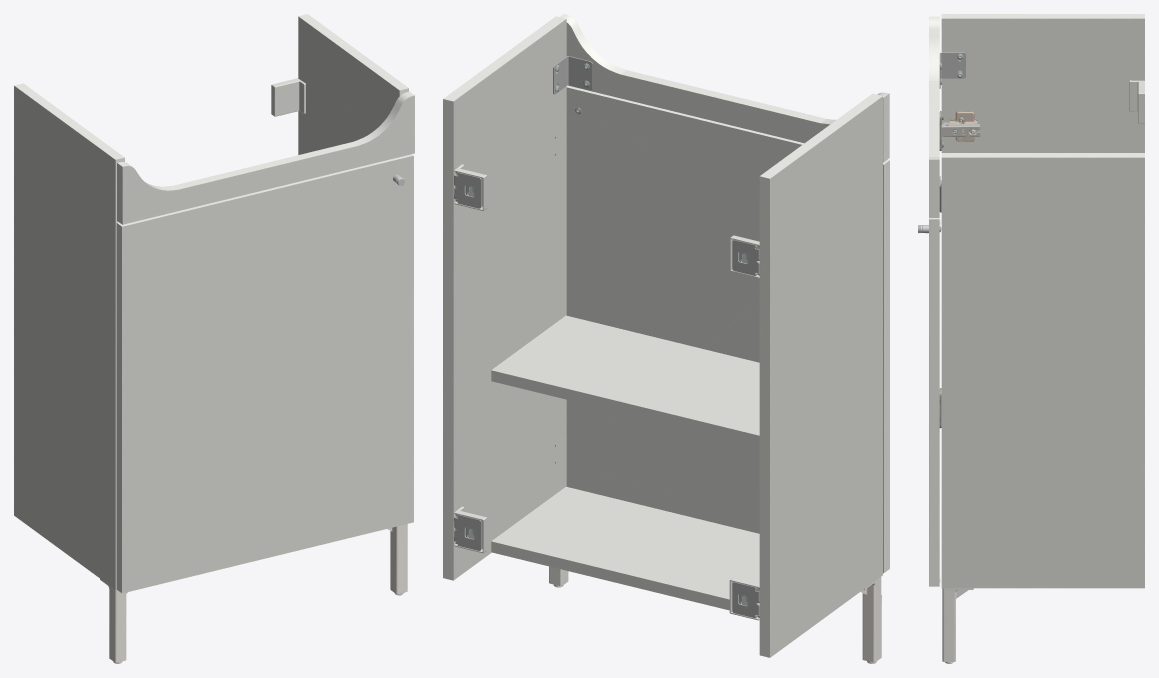
The model's file is nysjon_szafka_pod_umywalke_60470408.glb.
3 renders of one model, left to right at view 1: azimuth 30°, elevation 25°; view 2: azimuth 150°, elevation 25°; view 3: azimuth 270°, elevation 25°, orthographic. The views are drawn at different scales.
Visible parts, largest first — view 1: nysjon_szafka_pod_umywalke_60470408; view 2: nysjon_szafka_pod_umywalke_60470408; view 3: nysjon_szafka_pod_umywalke_60470408.
Boxes of the visible parts, x1,y1,x2,y2 form: nysjon_szafka_pod_umywalke_60470408: (14,14,414,663); nysjon_szafka_pod_umywalke_60470408: (443,14,889,663); nysjon_szafka_pod_umywalke_60470408: (918,14,1144,663).
Bounding box in the file's own units: 0.5 × 0.825 × 0.334.
3 materials, 3 textured.
